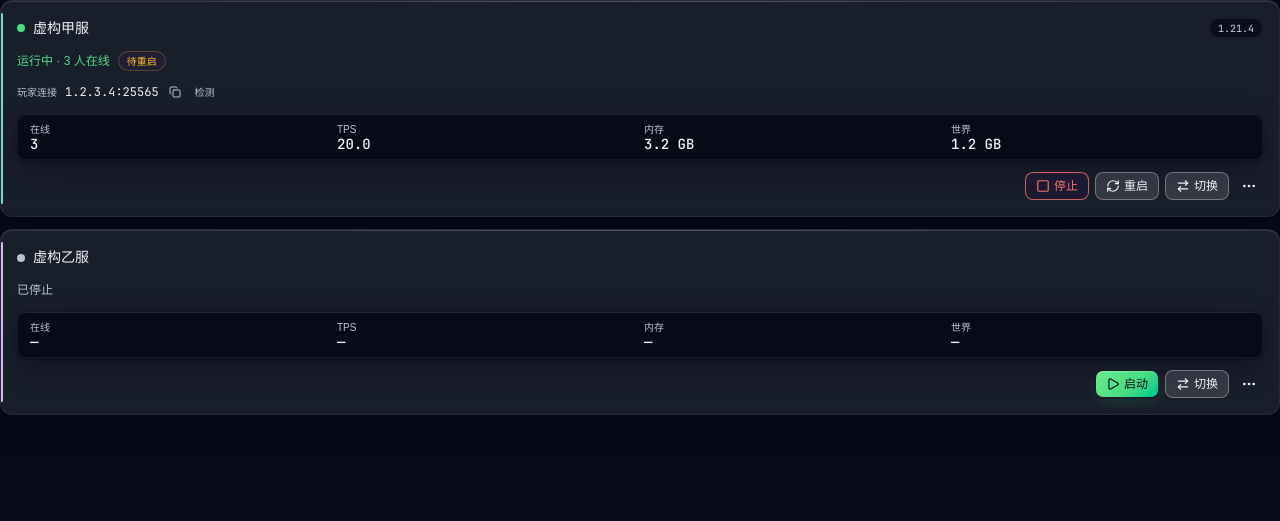
InstanceCards › 操作菜单：实例设置 / 升级版本 / 卸载实例三项，卸载为破坏性样式且与安全项分隔
The image size is (1280, 521).
Click the button named "虚构乙服 操作菜单".
click(1249, 384)  # box [1235,370,1263,398]
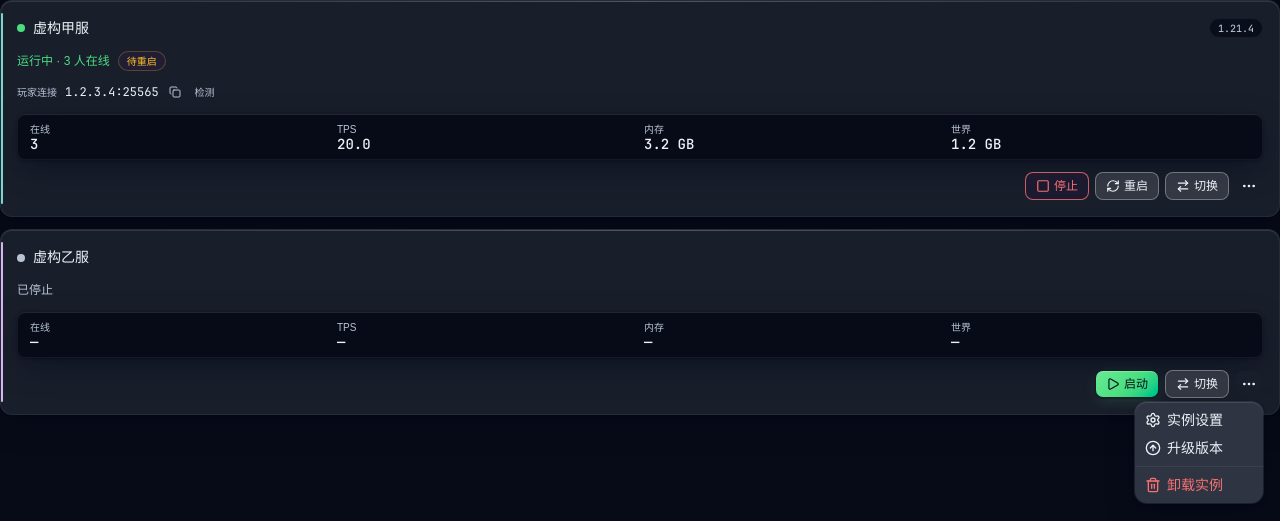
Expected: the menu item "实例设置" is shown, [1145,412,1223,428]
Expected: the menu item "升级版本" is shown, [1145,440,1223,456]
